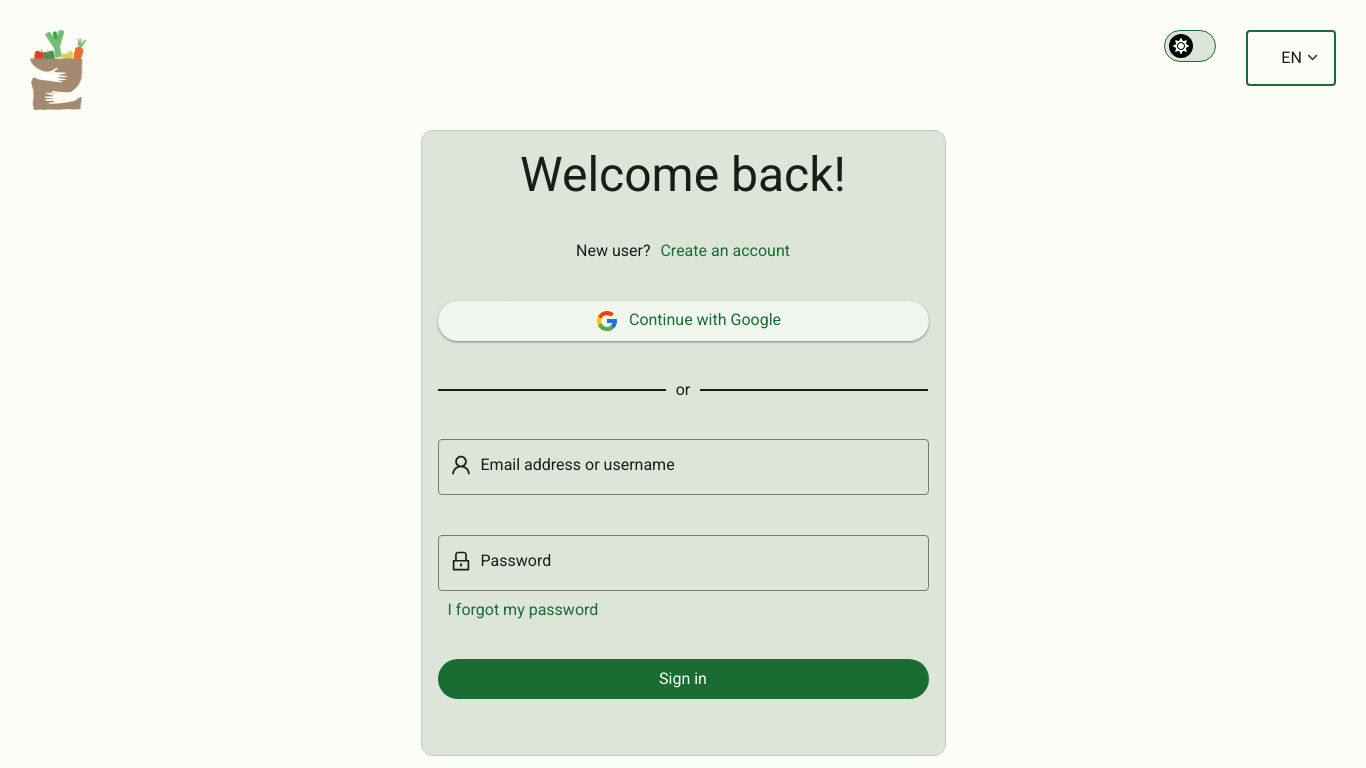
Test: signs the user in
Check: the text "New user?" is shown, box x1=576 y1=242 x2=650 y2=261
Type "testRightEmail" into the 1st field with test id "input" at (700,467), box x1=472 y1=440 x2=928 y2=494
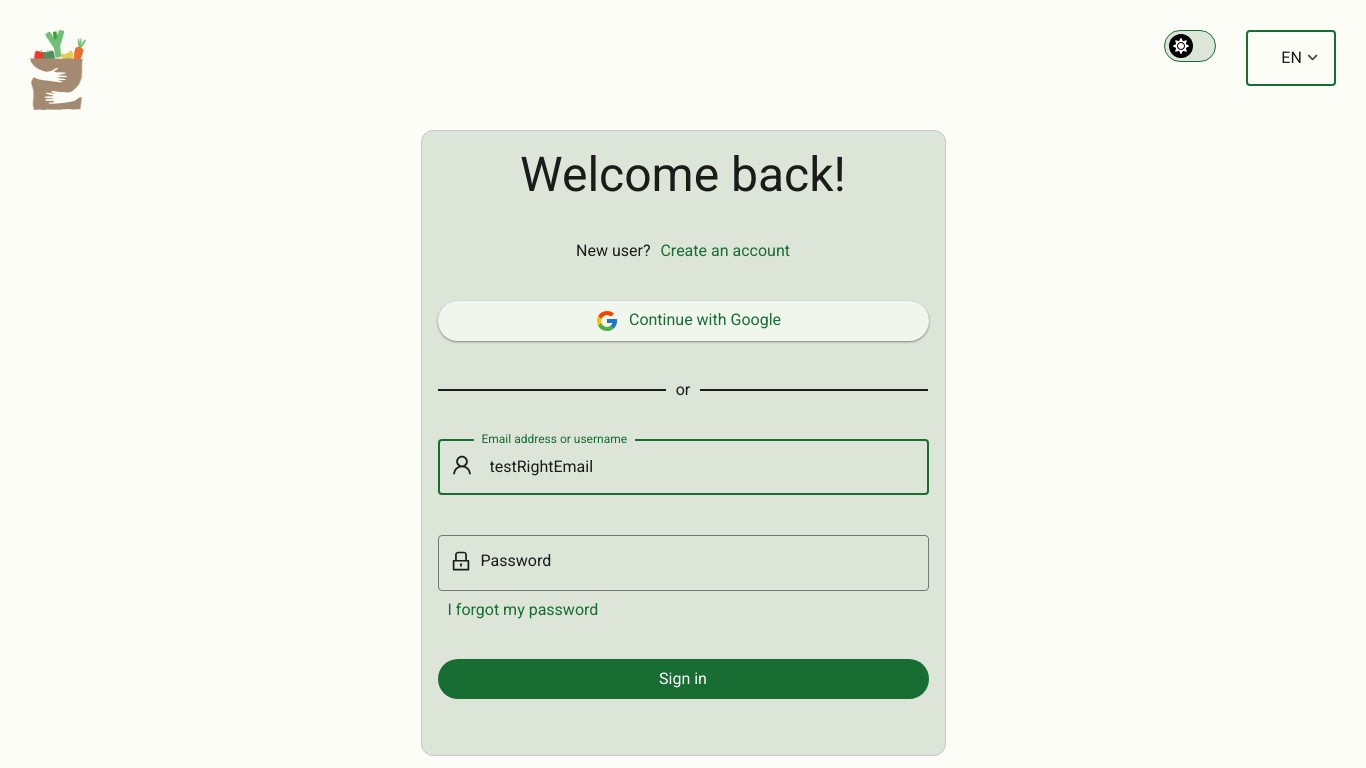
Type "testRightPassword" into the 2nd password field with test id "input" at (700,563), box x1=472 y1=536 x2=928 y2=590
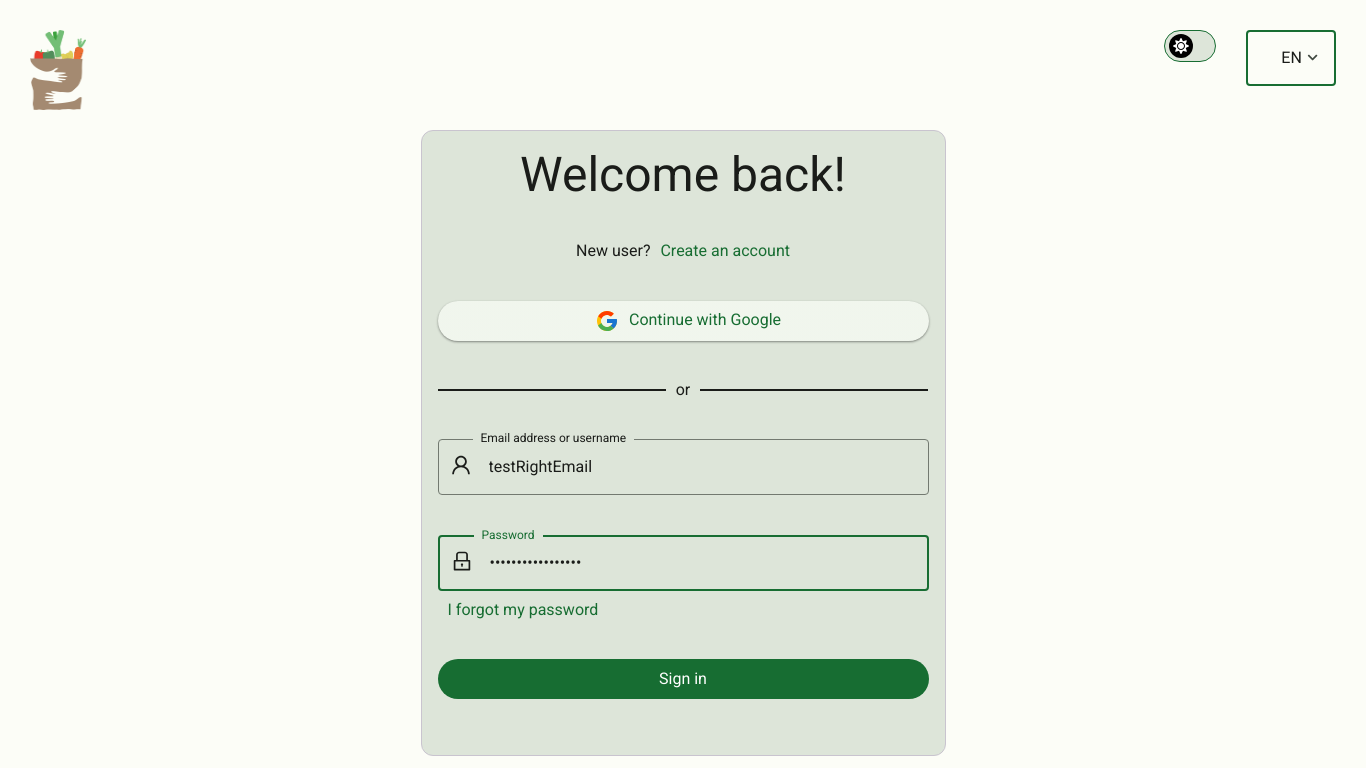
Click the button "Sign in" at (683,679), box x1=438 y1=659 x2=928 y2=699
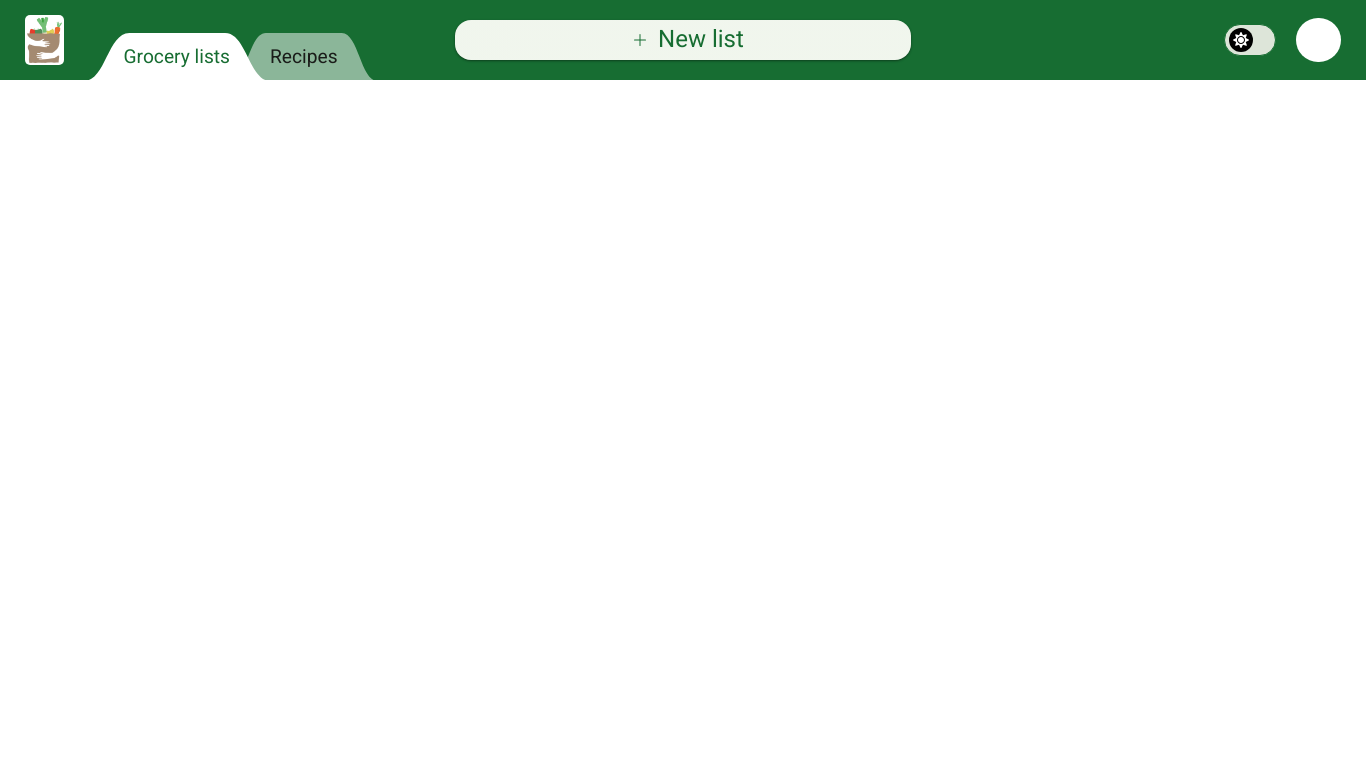
Check: the text "New list" is shown, box x1=632 y1=25 x2=744 y2=53
